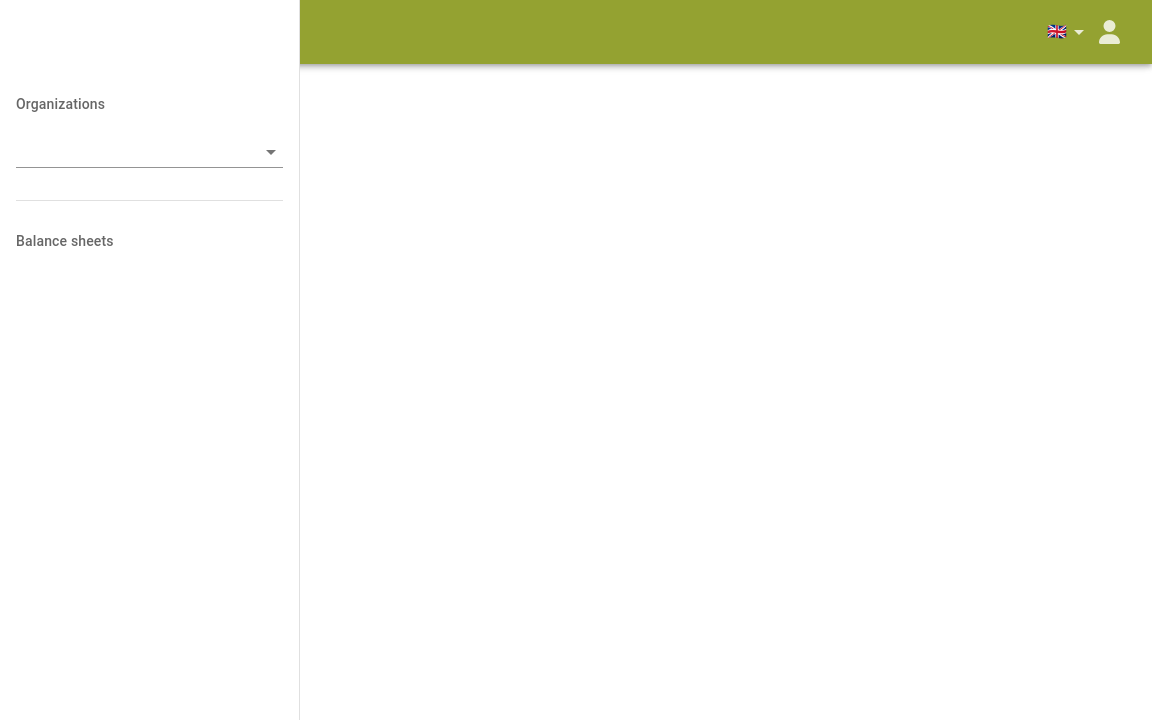
Test case: Sidebar › should redirect to profile
Click the button named "Open user navigation menu".
click(1110, 32)  # box x1=1091 y1=12 x2=1128 y2=52
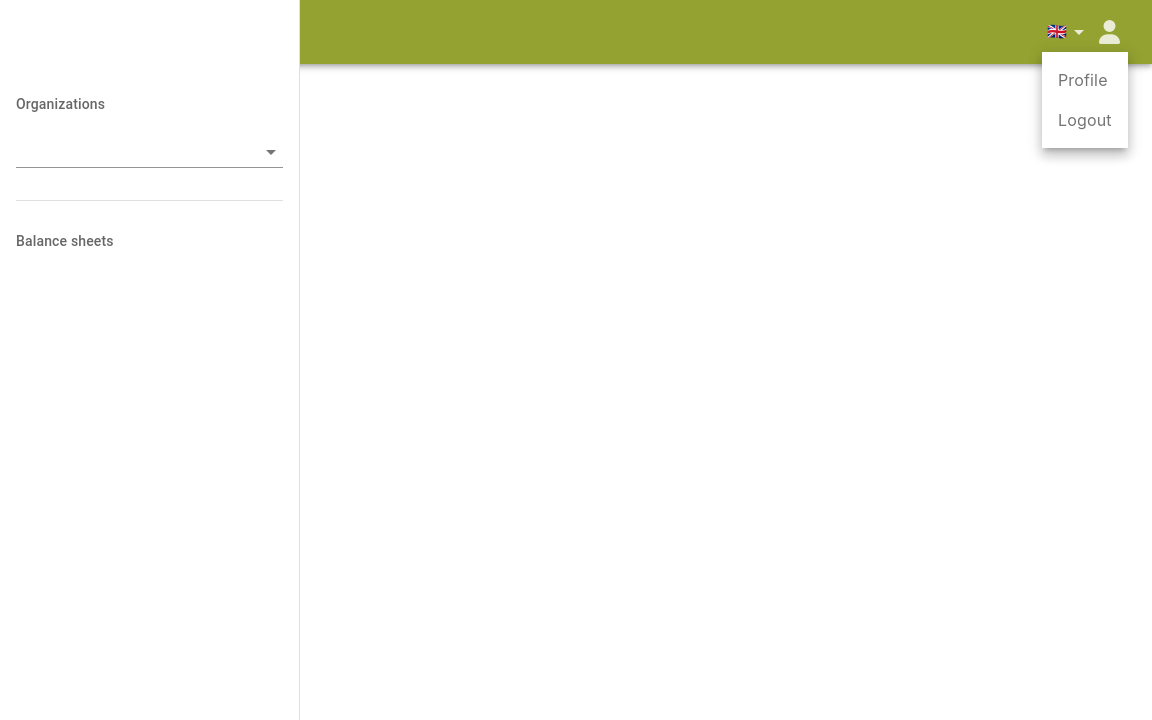
Click the link "Profile".
click(1083, 80)  # box x1=1058 y1=70 x2=1108 y2=90
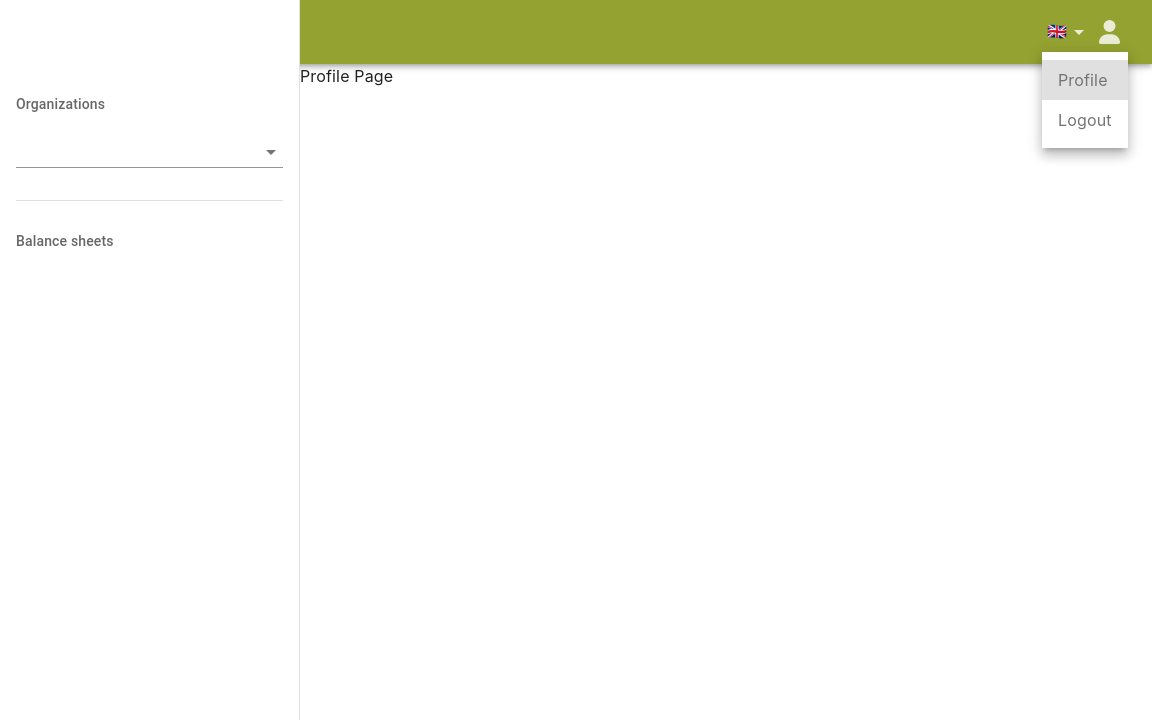
Expected: the text "Profile Page" is shown, x1=300 y1=66 x2=393 y2=86
